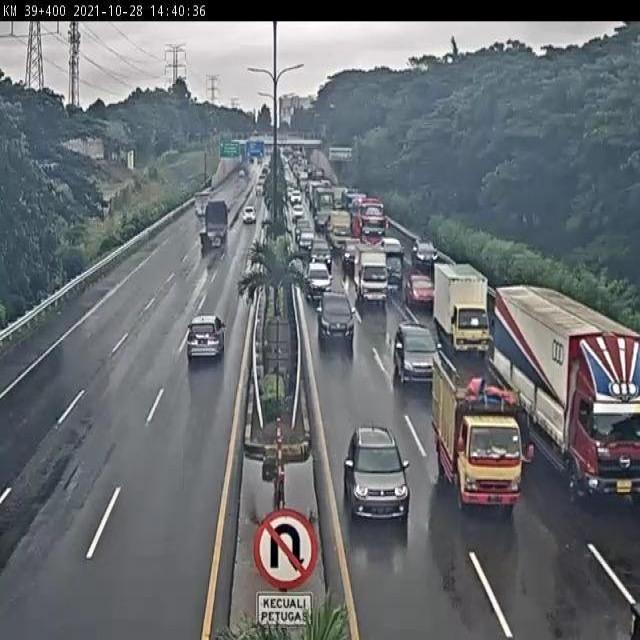big truck: (199, 201, 231, 255)
car: (344, 423, 411, 520), (392, 322, 440, 382), (315, 291, 354, 344), (186, 316, 229, 364), (401, 270, 435, 306), (382, 247, 408, 288), (305, 263, 333, 301)
truck-l-: (493, 288, 640, 489)
truck-m-: (433, 359, 523, 509), (433, 262, 492, 350)
truck-s-: (354, 240, 391, 305)
